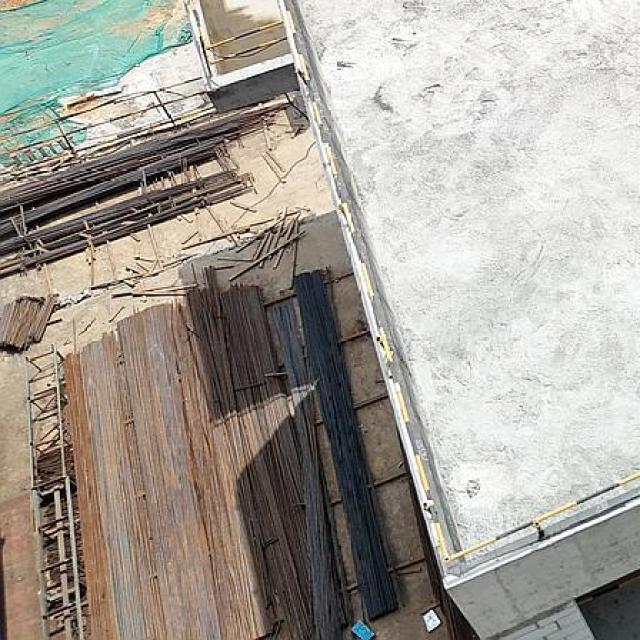Guardrail: (281, 0, 640, 569), (0, 75, 214, 177), (189, 0, 288, 77)
